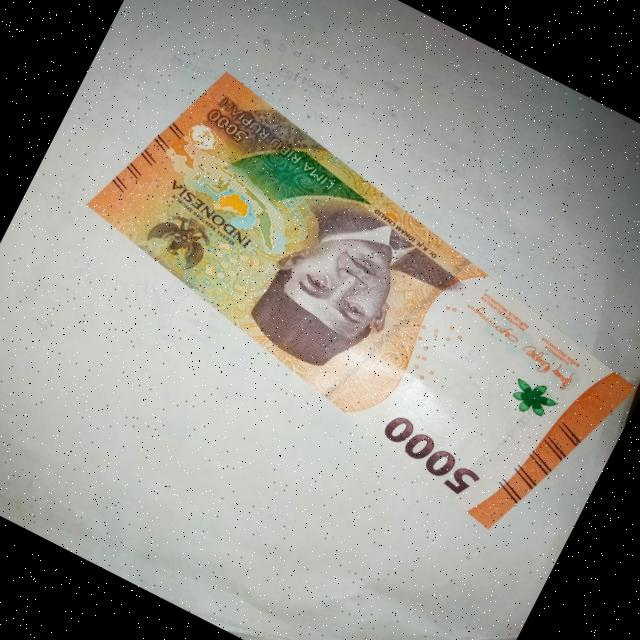5K: (19, 32, 640, 575)
